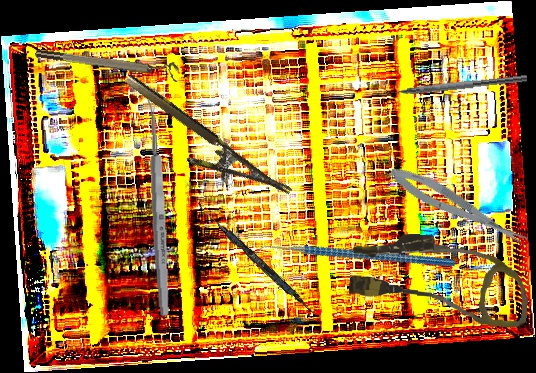Cannula: (347, 229, 532, 329)
Chopper: (248, 183, 457, 334), (376, 64, 528, 101)
Fixation Ring: (34, 40, 181, 83)
Micro Scissor: (385, 159, 531, 256)
Needle Holder: (108, 72, 293, 221)
Spatula Surgical: (193, 201, 322, 320)
Surgical Spoon: (144, 86, 173, 318)
